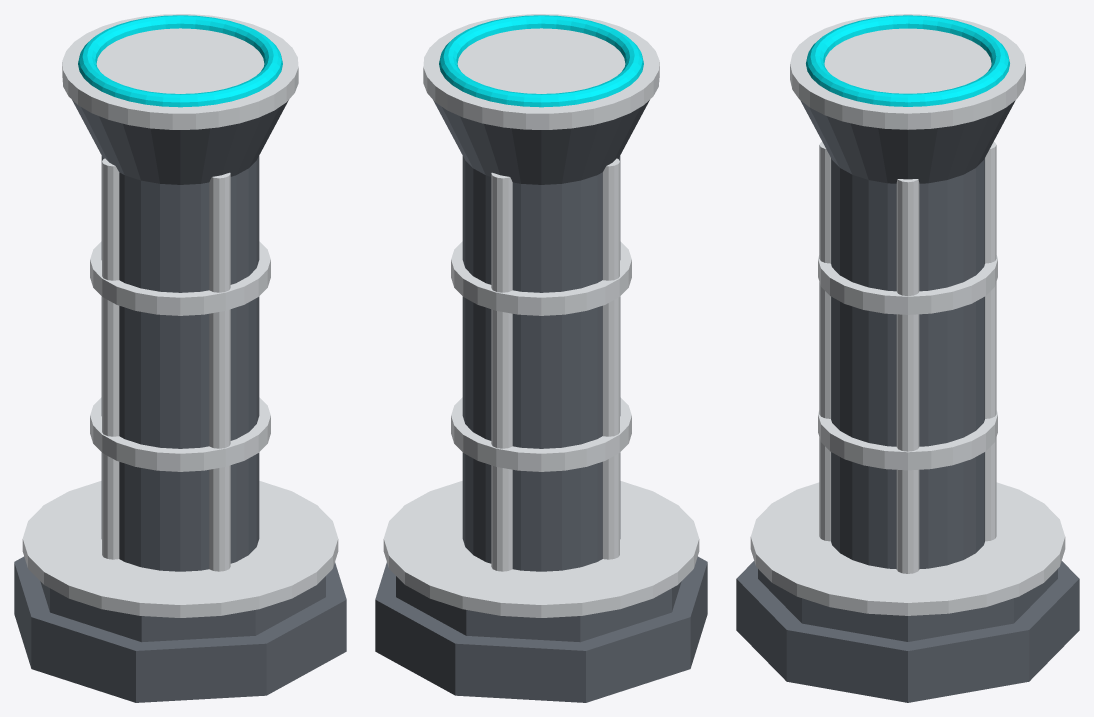
Rendered from PortalPedestalSocket.fbx.
3 renders of one model, left to right at view 1: azimuth 30°, elevation 25°; view 2: azimuth 150°, elevation 25°; view 3: azimuth 270°, elevation 25°, orthographic.
Visible parts, largest first — view 1: PortalPedestalSocket_Body, Pedestal_EmissiveRing; view 2: PortalPedestalSocket_Body, Pedestal_EmissiveRing; view 3: PortalPedestalSocket_Body, Pedestal_EmissiveRing.
Part boxes in pixels (left/top/right/bottom): PortalPedestalSocket_Body: left=14, top=14, right=346, bottom=702; Pedestal_EmissiveRing: left=78, top=15, right=282, bottom=107; PortalPedestalSocket_Body: left=375, top=14, right=707, bottom=702; Pedestal_EmissiveRing: left=439, top=15, right=643, bottom=107; PortalPedestalSocket_Body: left=736, top=14, right=1079, bottom=702; Pedestal_EmissiveRing: left=806, top=15, right=1009, bottom=106.
Size of the model in its own units: 0.48 by 0.888 by 0.48.
